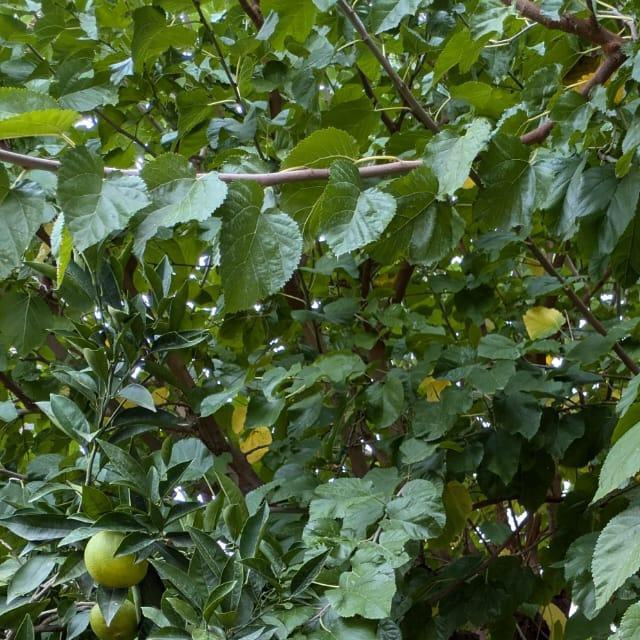orange: (81, 523, 153, 589), (88, 597, 140, 640)
